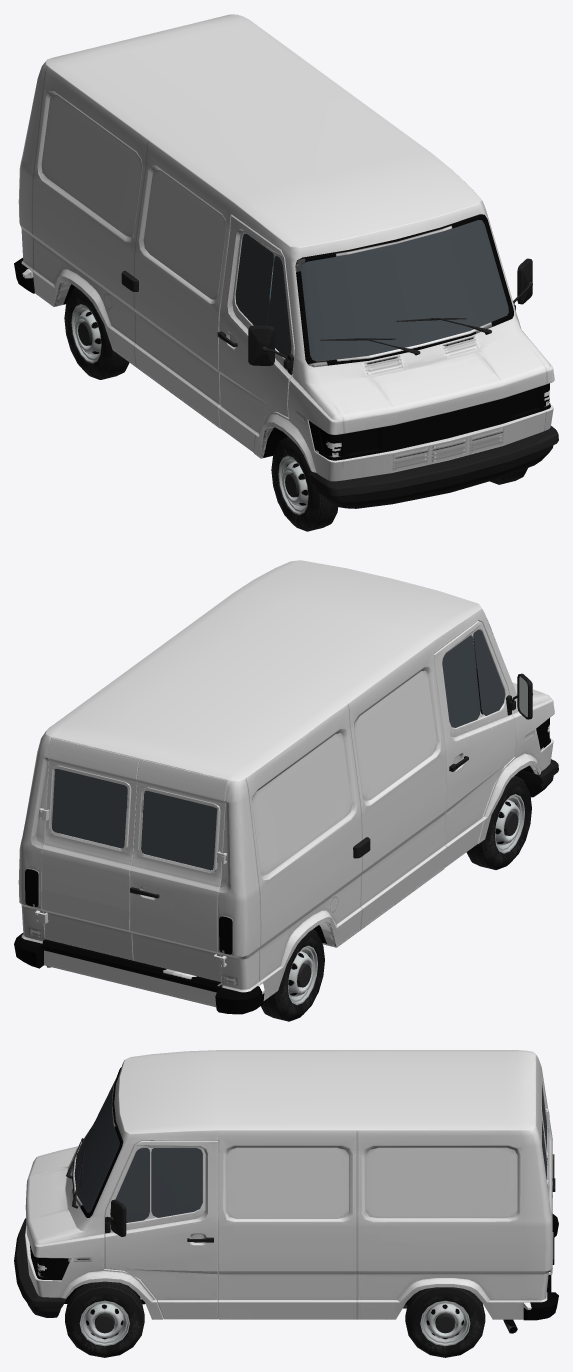
The model's file is delivery.glb.
3 renders of one model, top to bottom at view 1: azimuth 30°, elevation 25°; view 2: azimuth 150°, elevation 25°; view 3: azimuth 270°, elevation 25°, orthographic. The views are drawn at different scales.
Parts seen in each view (by area): view 1: polySurface160_van_european_delivery_body_shd_0, glass_windshield_ply_van_european_delivery_glass_shd_0, polySurface149_van_european_delivery_body_shd_0, bumper_front_ply_van_european_delivery_trim_shd_0, door_glass_ply_van_european_delivery_glass_shd_0, wheelFR, wheelRR, mirror_ply_van_european_delivery_trim_shd_0; view 2: polySurface160_van_european_delivery_body_shd_0, polySurface22_van_european_delivery_body_shd_0, polySurface137_van_european_delivery_body_shd_0, polySurface149_van_european_delivery_body_shd_0, pCube80_van_european_delivery_glass_shd_0, pCube81_van_european_delivery_glass_shd_0, door_glass_ply_van_european_delivery_glass_shd_0, wheelFR, wheelRR, bumper_front_ply_van_european_delivery_trim_shd_0, mirror_ply_van_european_delivery_trim_shd_0; view 3: polySurface160_van_european_delivery_body_shd_0, polySurface149_van_european_delivery_body_shd_0, door_glass_ply_van_european_delivery_glass_shd_0, wheelFL, wheelRL, glass_windshield_ply_van_european_delivery_glass_shd_0, bumper_front_ply_van_european_delivery_trim_shd_0, polySurface137_van_european_delivery_body_shd_0, mirror_ply_van_european_delivery_trim_shd_0, polySurface22_van_european_delivery_body_shd_0.
Boxes of the visible parts, left/top/right/bottom form: polySurface160_van_european_delivery_body_shd_0: left=14, top=14, right=554, bottom=481; glass_windshield_ply_van_european_delivery_glass_shd_0: left=301, top=220, right=508, bottom=361; polySurface149_van_european_delivery_body_shd_0: left=218, top=215, right=294, bottom=452; bumper_front_ply_van_european_delivery_trim_shd_0: left=310, top=426, right=558, bottom=508; door_glass_ply_van_european_delivery_glass_shd_0: left=235, top=233, right=291, bottom=356; wheelFR: left=271, top=437, right=338, bottom=531; wheelRR: left=64, top=288, right=129, bottom=379; mirror_ply_van_european_delivery_trim_shd_0: left=248, top=325, right=274, bottom=365; polySurface160_van_european_delivery_body_shd_0: left=14, top=560, right=554, bottom=1014; polySurface22_van_european_delivery_body_shd_0: left=41, top=737, right=139, bottom=960; polySurface137_van_european_delivery_body_shd_0: left=129, top=759, right=227, bottom=982; polySurface149_van_european_delivery_body_shd_0: left=433, top=621, right=515, bottom=867; pCube80_van_european_delivery_glass_shd_0: left=52, top=769, right=127, bottom=848; pCube81_van_european_delivery_glass_shd_0: left=141, top=791, right=216, bottom=870; door_glass_ply_van_european_delivery_glass_shd_0: left=442, top=630, right=505, bottom=727; wheelFR: left=466, top=775, right=531, bottom=869; wheelRR: left=261, top=929, right=324, bottom=1021; bumper_front_ply_van_european_delivery_trim_shd_0: left=515, top=759, right=558, bottom=797; mirror_ply_van_european_delivery_trim_shd_0: left=517, top=673, right=532, bottom=719; polySurface160_van_european_delivery_body_shd_0: left=25, top=1050, right=558, bottom=1320; polySurface149_van_european_delivery_body_shd_0: left=104, top=1140, right=218, bottom=1319; door_glass_ply_van_european_delivery_glass_shd_0: left=110, top=1148, right=202, bottom=1222; wheelFL: left=65, top=1281, right=144, bottom=1357; wheelRL: left=405, top=1287, right=485, bottom=1357; glass_windshield_ply_van_european_delivery_glass_shd_0: left=74, top=1079, right=119, bottom=1212; bumper_front_ply_van_european_delivery_trim_shd_0: left=14, top=1218, right=66, bottom=1317; polySurface137_van_european_delivery_body_shd_0: left=535, top=1056, right=552, bottom=1180; mirror_ply_van_european_delivery_trim_shd_0: left=110, top=1199, right=126, bottom=1236; polySurface22_van_european_delivery_body_shd_0: left=535, top=1091, right=552, bottom=1215.
Size of the model in its own units: 2.67 by 2.53 by 5.4.
Materials: 5 (4 with a texture image).
